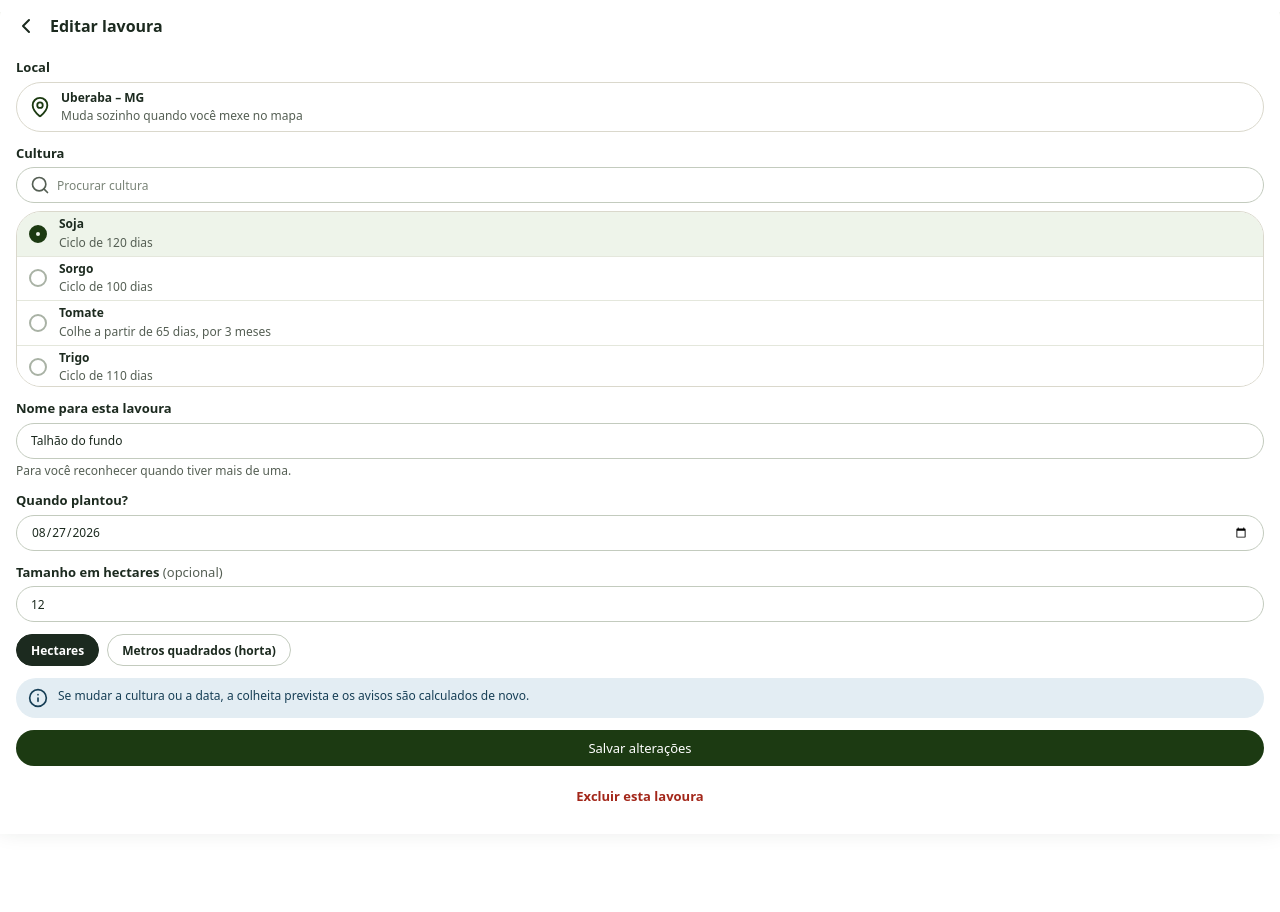
Test case: Editar lavoura › mostra o mapa e o formulário juntos, sem o "Trocar"
(page scrolled)
Expected: the heading "Editar lavoura" is shown, [50,15,163,37]
Click the button "Salvar alterações" at {"x": 640, "y": 748}, box [16,730,1264,766]
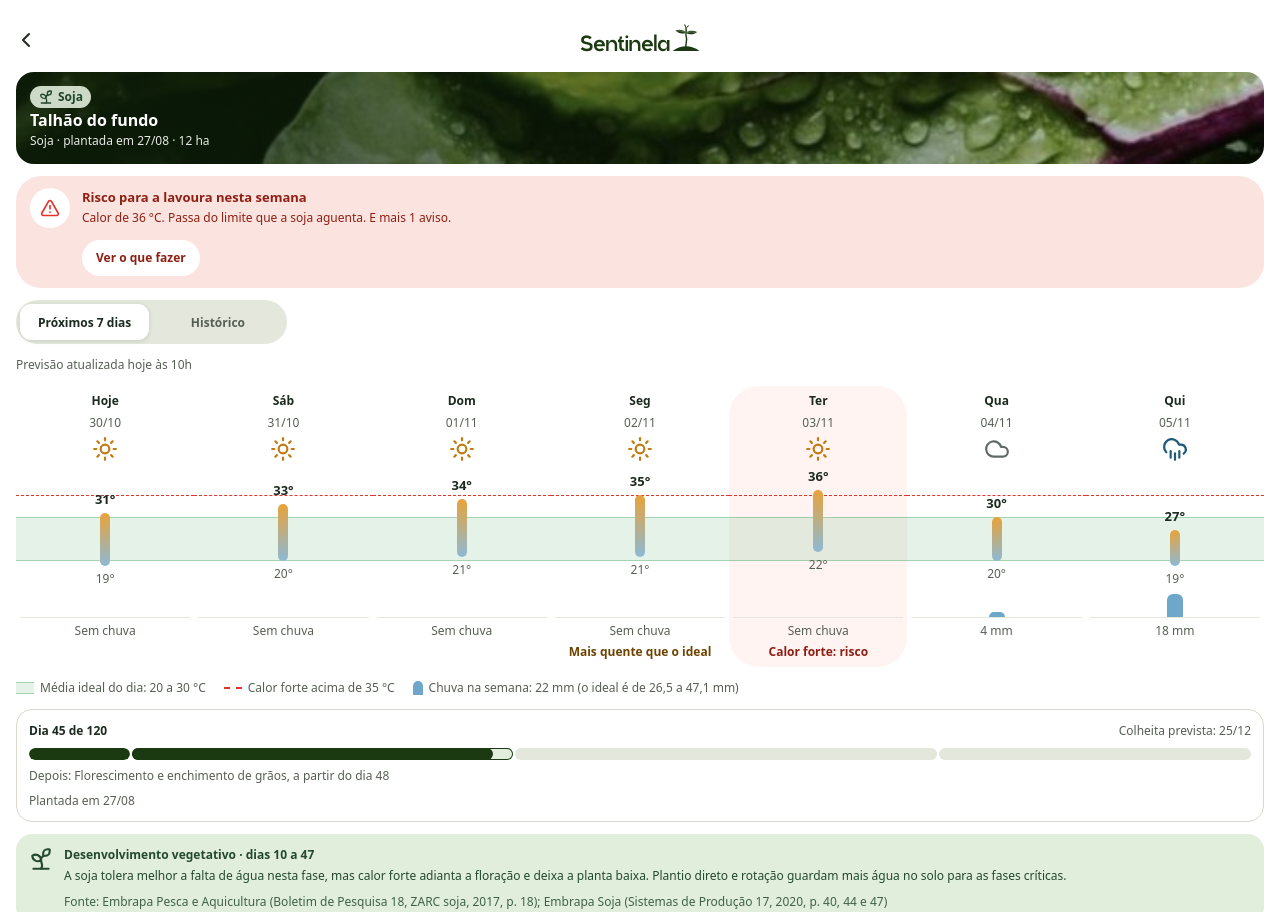
Expected: the heading "Talhão do fundo" is shown, [30,112,158,128]
